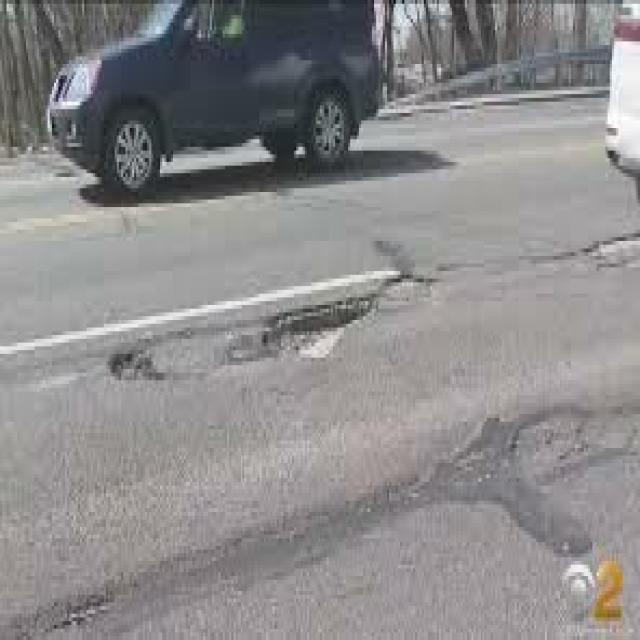Pothole: (97, 260, 448, 425)
